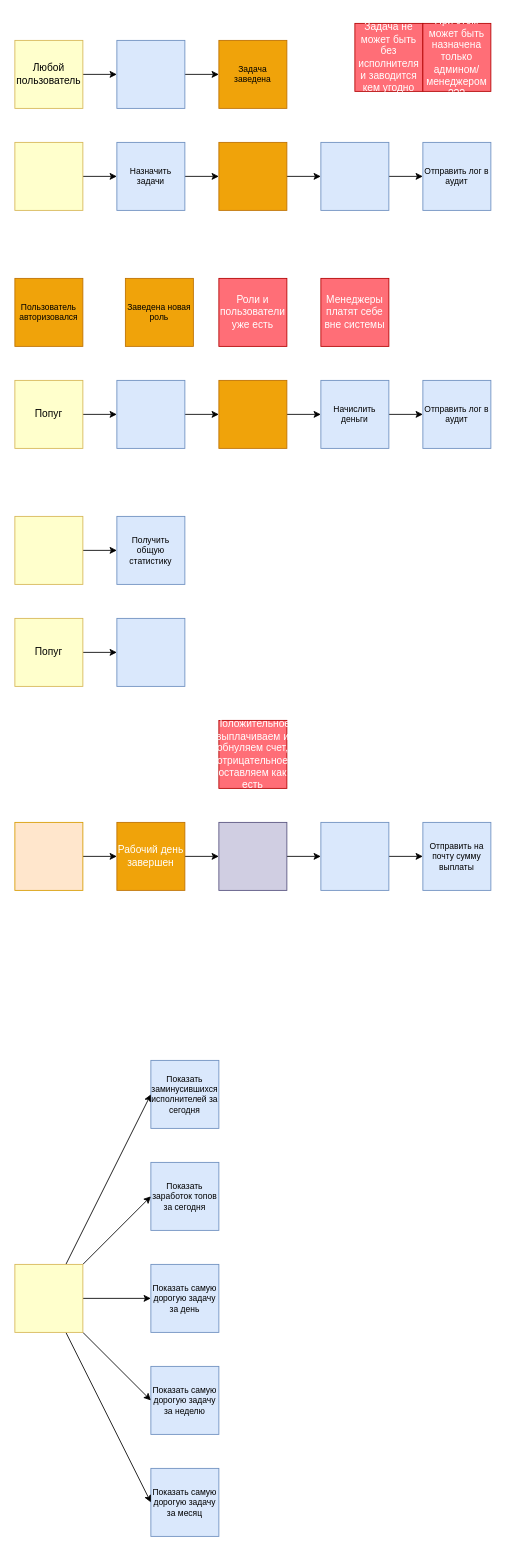
Image size: 506x1551. Some labels were removed from this diagram. The centre of each missing label's shape, as x and y in pixels:
Cron: [48,856]
Админ: [48,1298]
Админ/бух: [48,550]
Админ/менеджер: [48,176]
Выплатить баланс и обнулить: [354,856]
Задача выполнена: [252,414]
Задача назначена: [252,176]
Отметить задачу выполненной: [150,414]
Получить инфу о своём счете: [150,652]
При окончании рабочего дня выполняются расчеты: [252,856]
Создать задачу: [150,74]
Списать деньги: [354,176]
